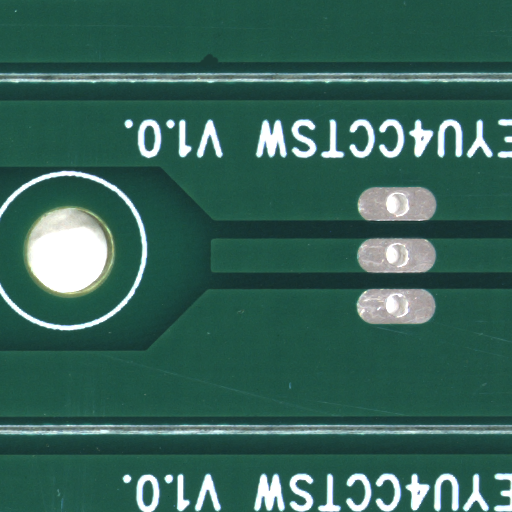Mouse_bite: (208, 58, 226, 69)
